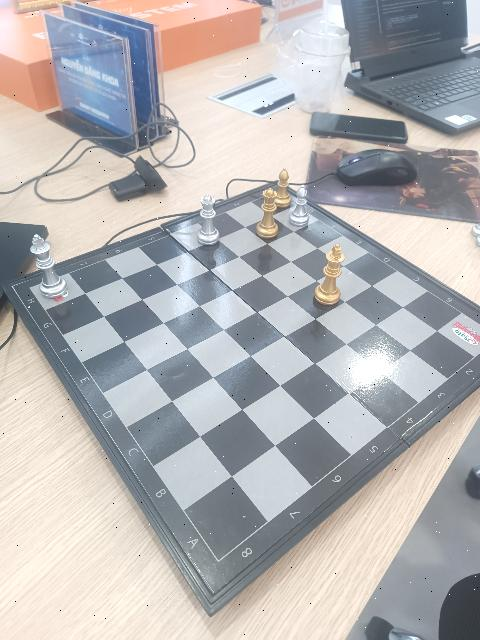black_bishop: (275, 165, 292, 208)
black_king: (314, 245, 344, 307)
black_queen: (255, 187, 279, 240)
white_bishop: (292, 184, 310, 229)
white_king: (30, 232, 68, 298)
white_queen: (197, 193, 221, 244)
